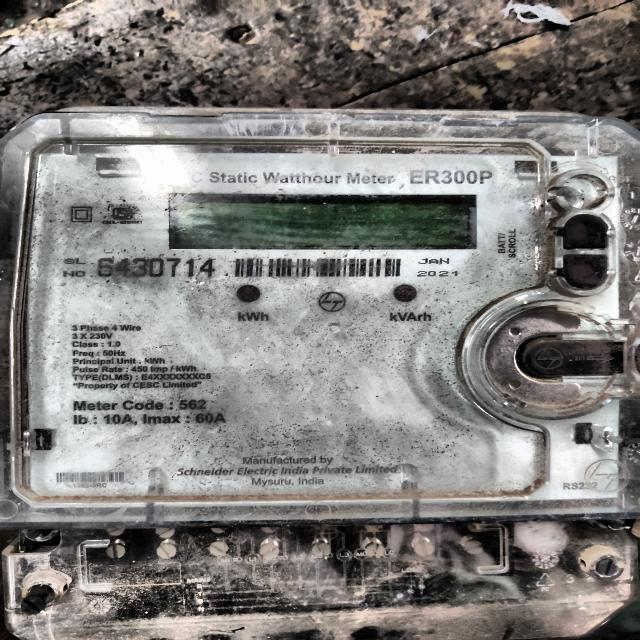Digital: (0, 100, 640, 628)
Reading: (177, 196, 466, 247)
Serial No.: (96, 254, 220, 283)
